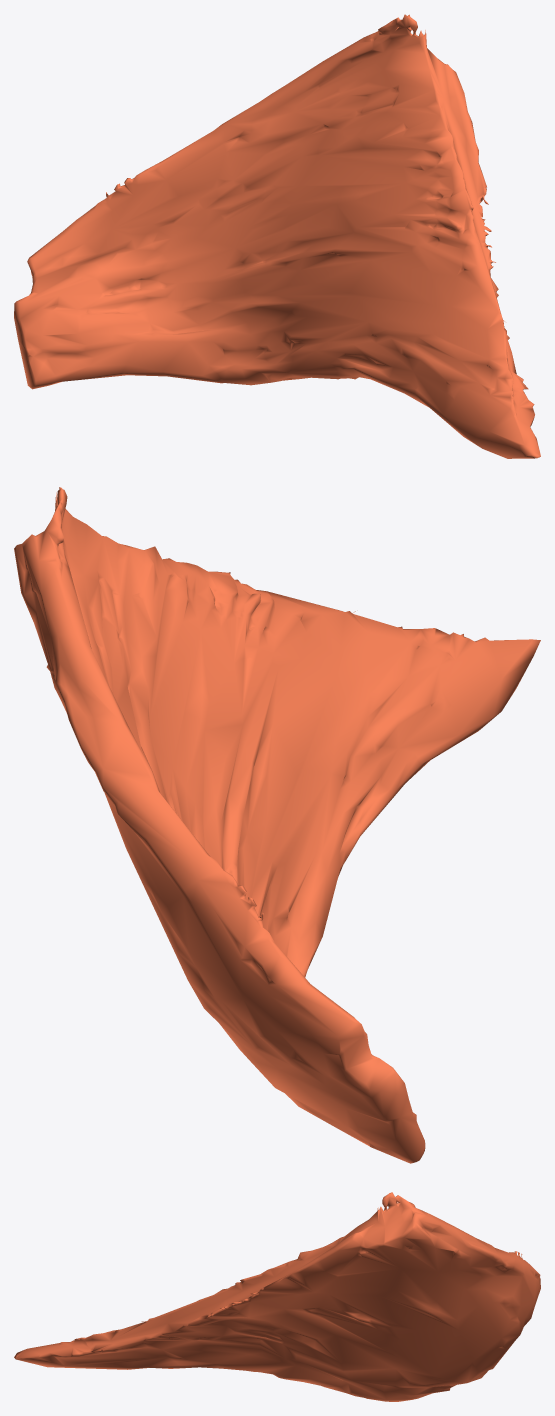
Rendered from Iliococcygeus_muscle.r_Generated_Mesh_From_X3D.476.glb.
3 views of the same model, one above another, from view 1: azimuth 30°, elevation 25°; view 2: azimuth 150°, elevation 25°; view 3: azimuth 270°, elevation 25° (orthographic). The views are drawn at different scales.
Visible parts, largest first — view 1: Iliococcygeus_muscle.r_Generated_Mesh_From_X3D.476; view 2: Iliococcygeus_muscle.r_Generated_Mesh_From_X3D.476; view 3: Iliococcygeus_muscle.r_Generated_Mesh_From_X3D.476.
Part boxes in pixels (box(x1,y1,x2,y2)): Iliococcygeus_muscle.r_Generated_Mesh_From_X3D.476: box(14, 14, 540, 458); Iliococcygeus_muscle.r_Generated_Mesh_From_X3D.476: box(14, 487, 540, 1163); Iliococcygeus_muscle.r_Generated_Mesh_From_X3D.476: box(14, 1192, 540, 1401).
Bounding box in the file's own units: 0.0459 × 0.0447 × 0.0757.
